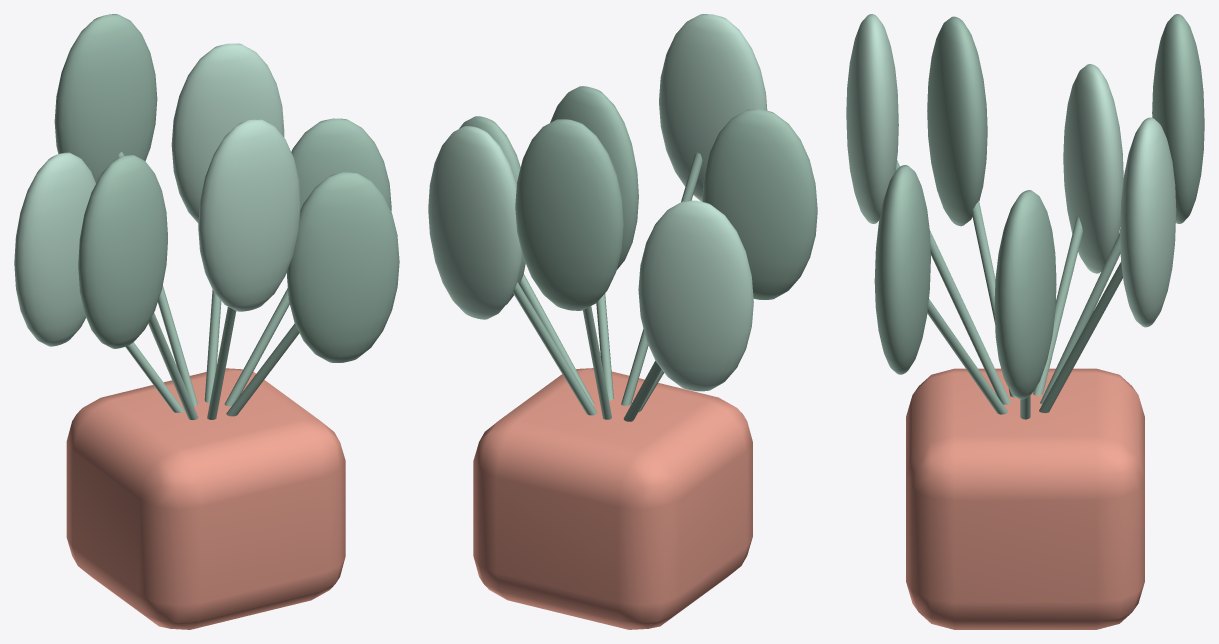
File: Plant.fbx
3 views of the same model, side by side, from view 1: azimuth 30°, elevation 25°; view 2: azimuth 150°, elevation 25°; view 3: azimuth 270°, elevation 25° (orthographic). The views are drawn at different scales.
Visible parts, largest first — view 1: Plant; view 2: Plant; view 3: Plant.
Boxes of the visible parts, x1,y1,x2,y2 form: Plant: (14, 14, 399, 629); Plant: (428, 14, 817, 629); Plant: (846, 14, 1204, 629).
Size of the model in its own units: 56.23 by 83 by 47.99.
